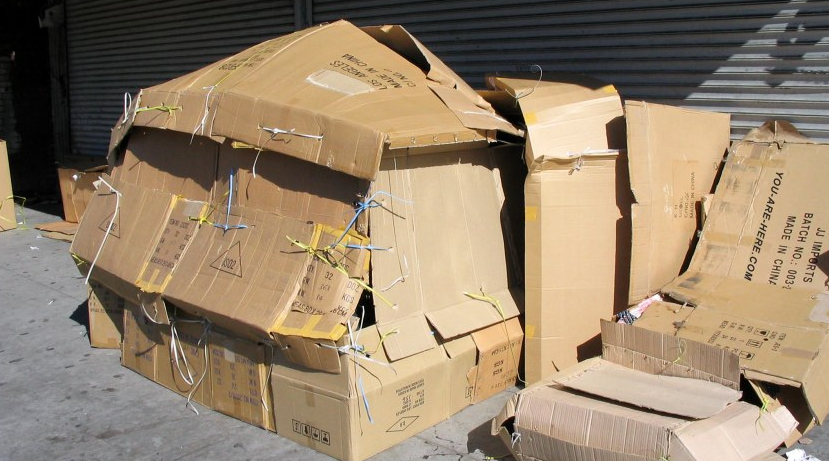box: (110, 18, 533, 452), (505, 77, 731, 384), (493, 354, 800, 461), (53, 153, 110, 240)
